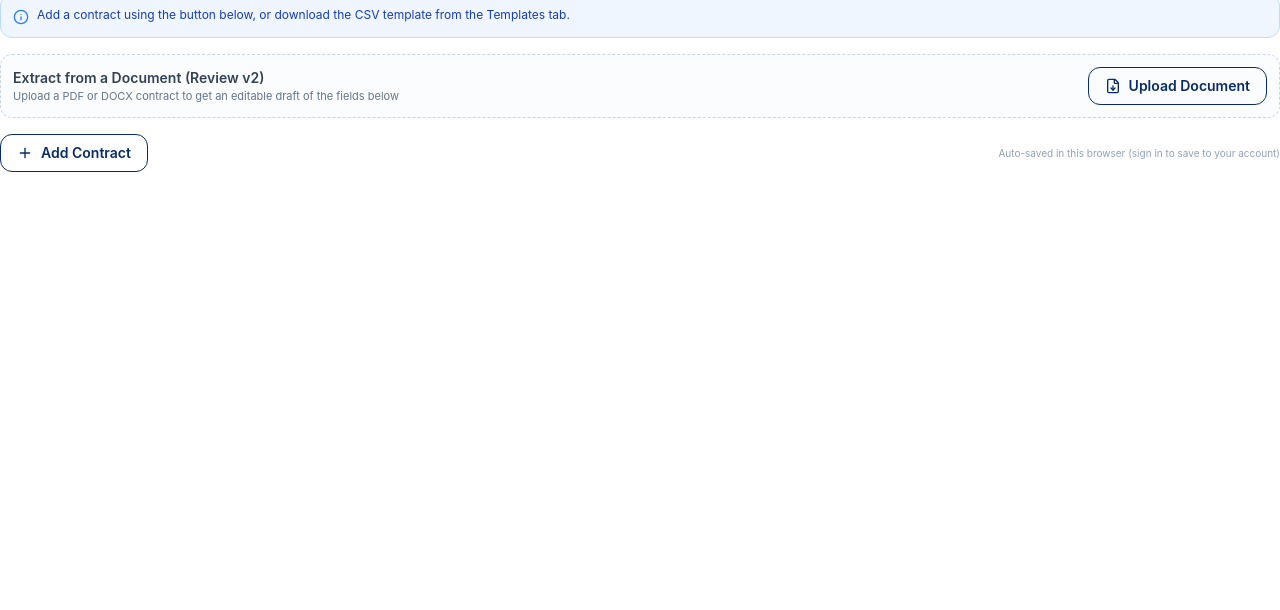
Test: Review -- Apply Best-Practice Defaults button gating › renders the MSA-labeled button for an MSA contract
The image size is (1280, 610).
Click the button "Add Contract": x=74, y=153 [0,134,148,172]
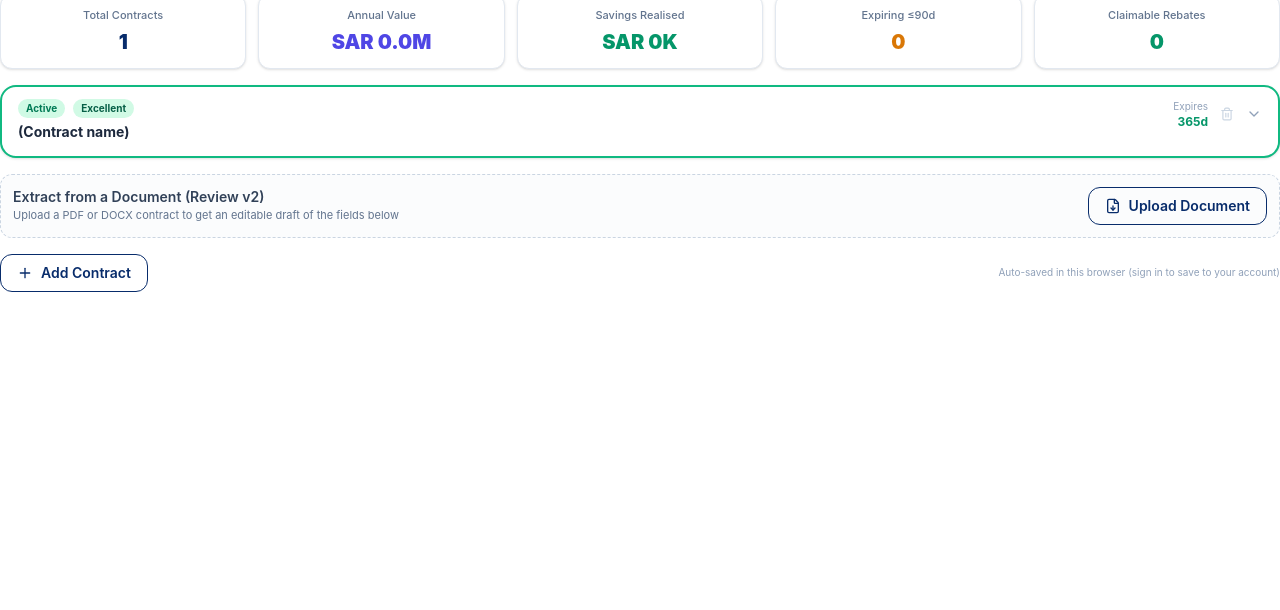
Click the text "(Contract name)": x=74, y=131 [18,122,130,140]
(page scrolled)
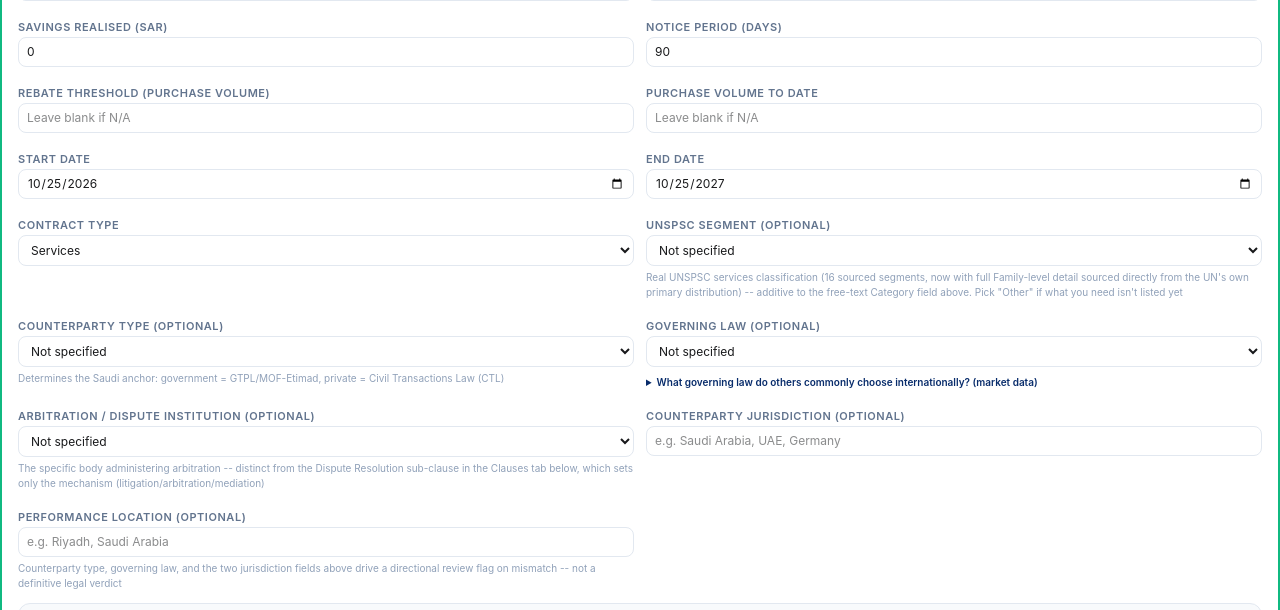
Select "Master Service Agreement" in the dropdown showing "Services" below "Contract Type": x=326, y=250 [18,234,634,266]
(page scrolled)
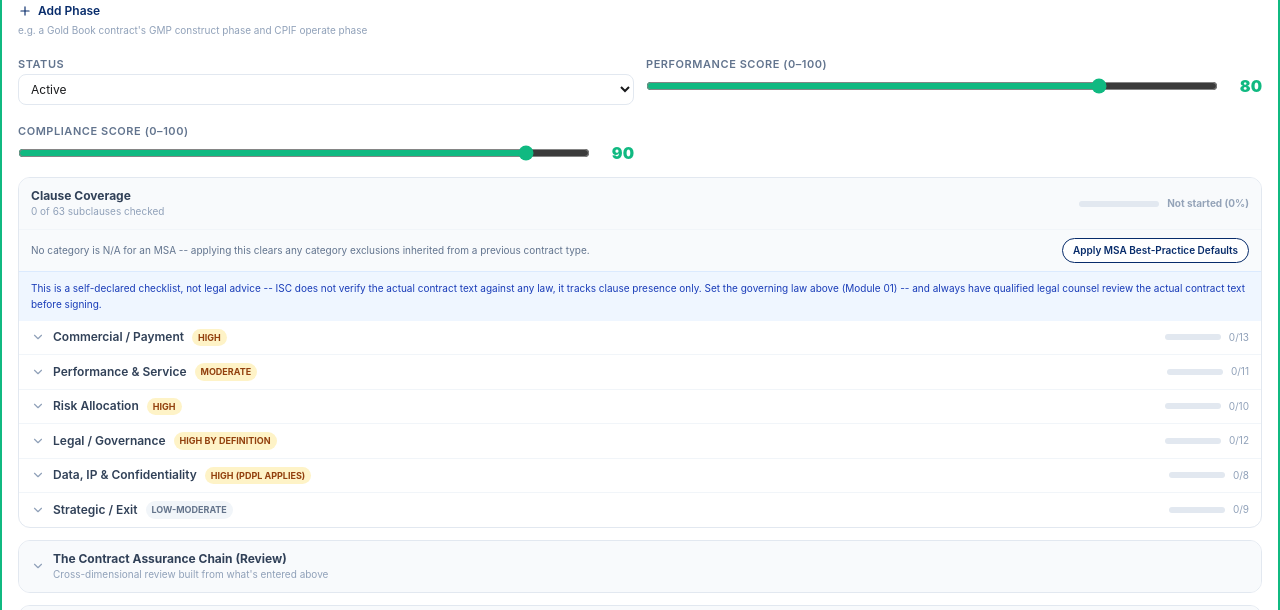
Expected: the button "Apply MSA Best-Practice Defaults" is shown, [1062,238,1249,263]
